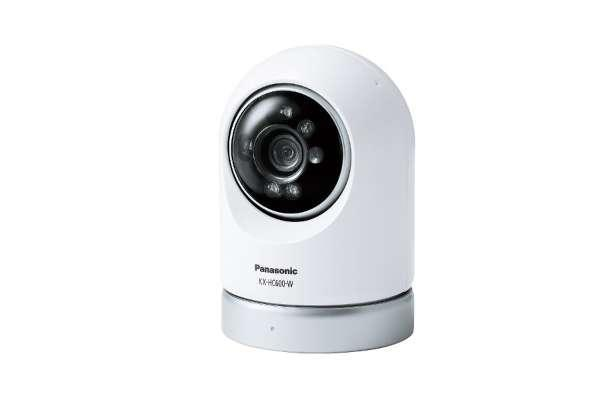maru: (220, 47, 415, 355)
